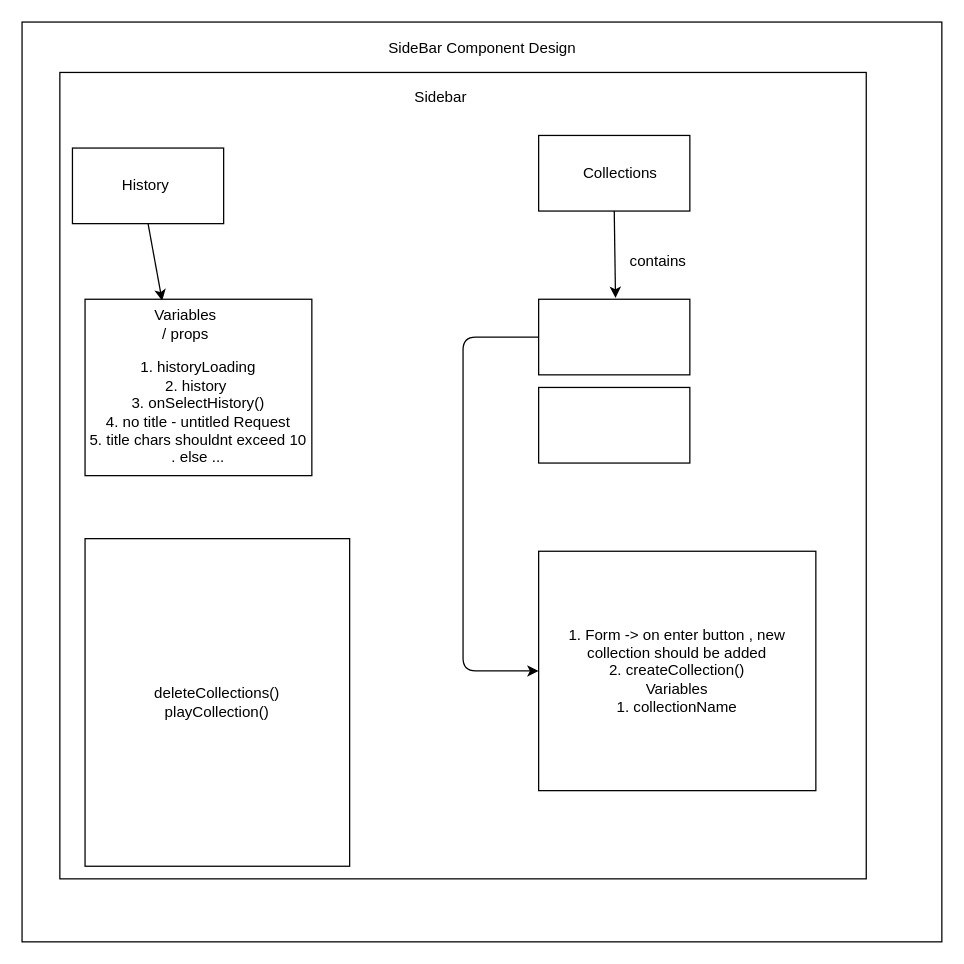
Some shapes in this 964 by 964 pixel diagram are drawn without their labels. The shapes that lost their labels are listed below. From the top down, each one's box as (x1, y1, x2, y2) in pixels, then its label:
(537, 298, 690, 375): addCollection
(537, 386, 690, 463): existingCollections
